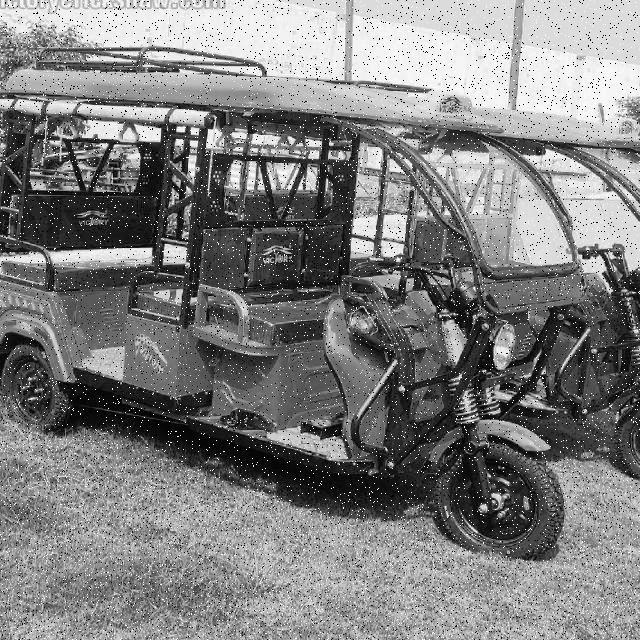Toto: (0, 54, 566, 560)
